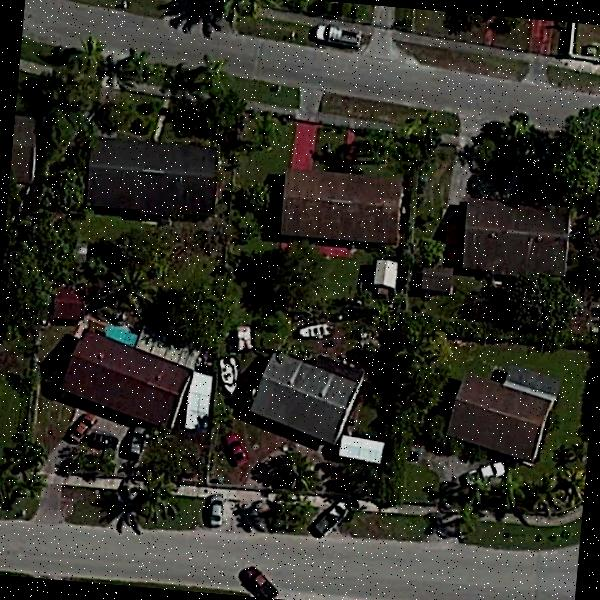Buildings: (55, 328, 193, 425), (271, 168, 402, 245), (87, 138, 218, 212), (253, 354, 357, 444), (457, 200, 571, 272), (452, 383, 552, 453)
